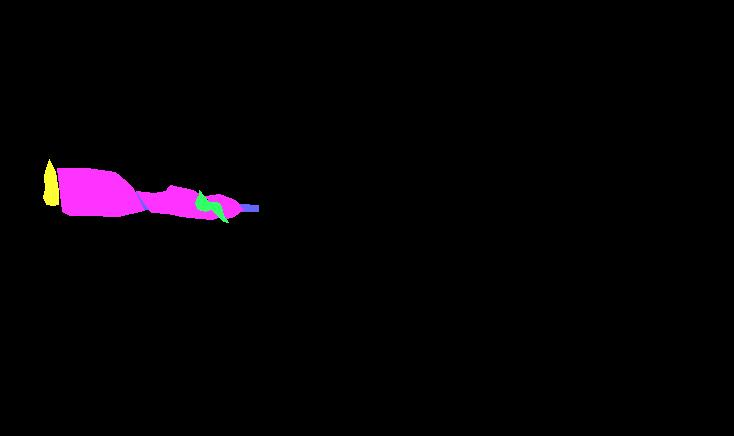Broken part: (195, 190, 228, 222)
Cracked: (43, 159, 58, 205)
Dent: (57, 168, 144, 216), (136, 185, 220, 219), (205, 194, 243, 218)
Scratch: (62, 191, 197, 211), (221, 204, 258, 211)
